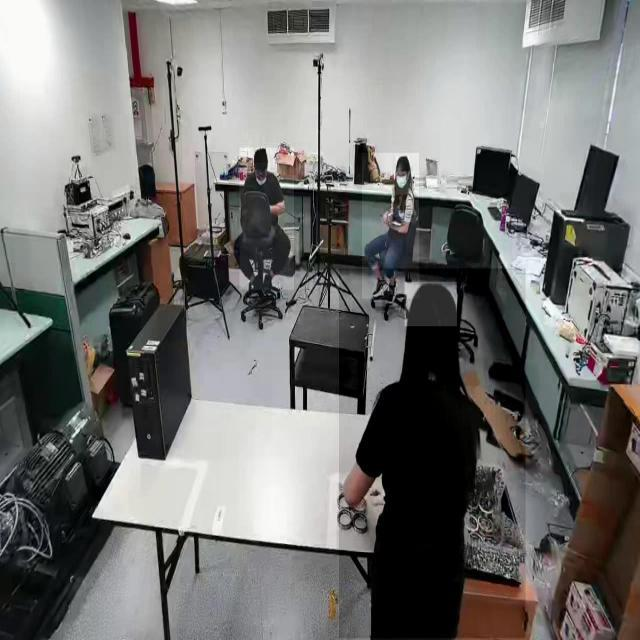boots: (384, 277, 400, 304), (372, 276, 388, 298)
